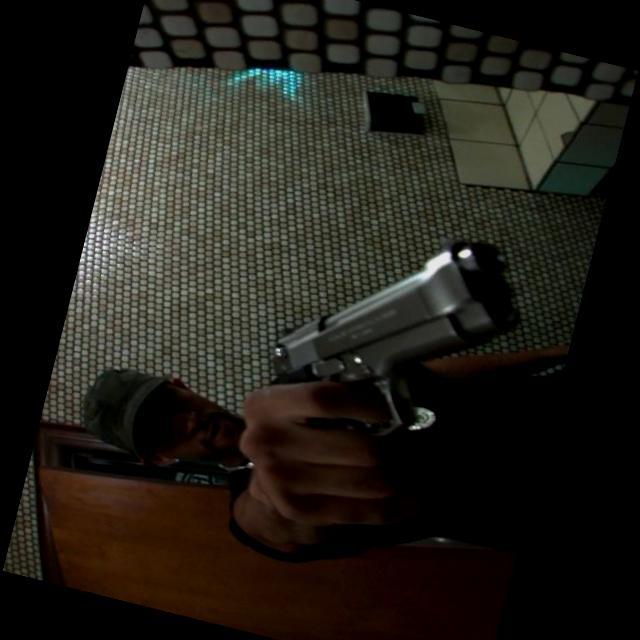handgun: (229, 195, 522, 543)
